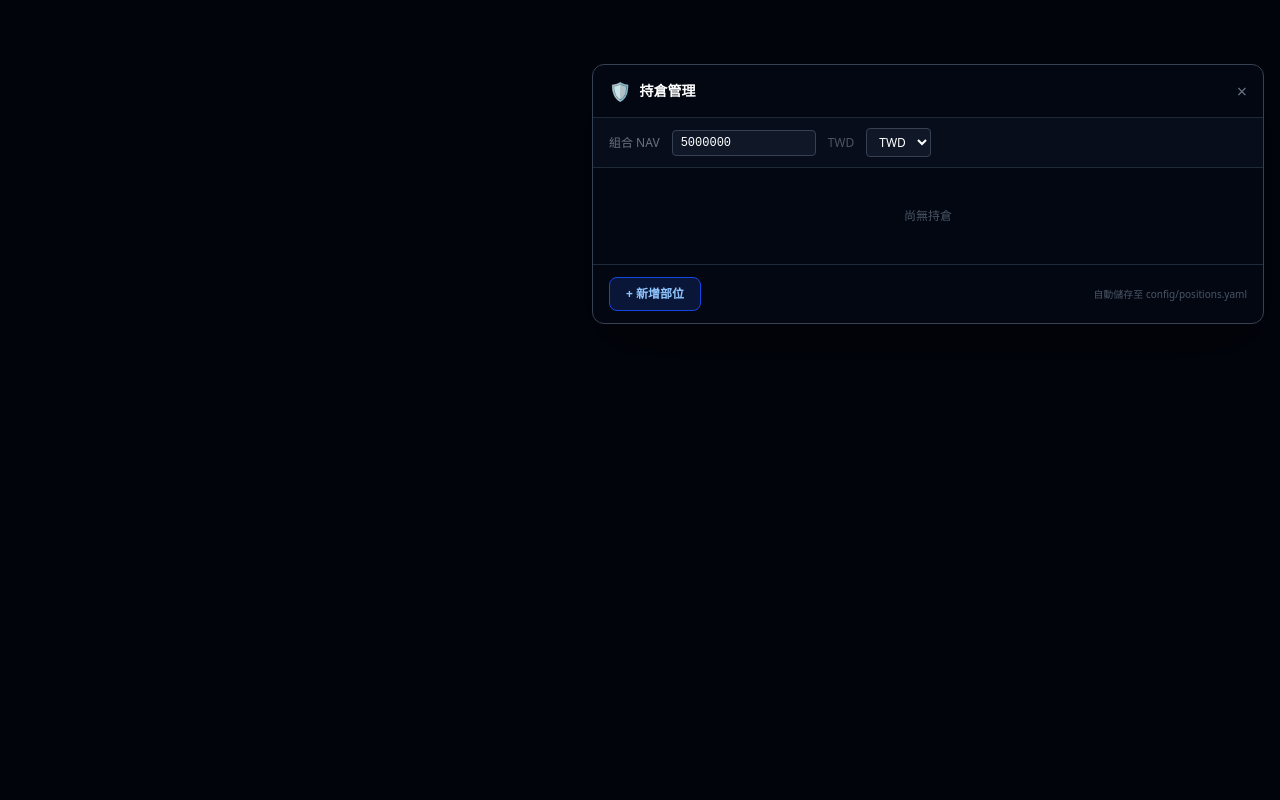
一般必填欄位 › 空白代碼擋下送出
Click the button "+ 新增部位": [655, 294] box [609,277,701,311]
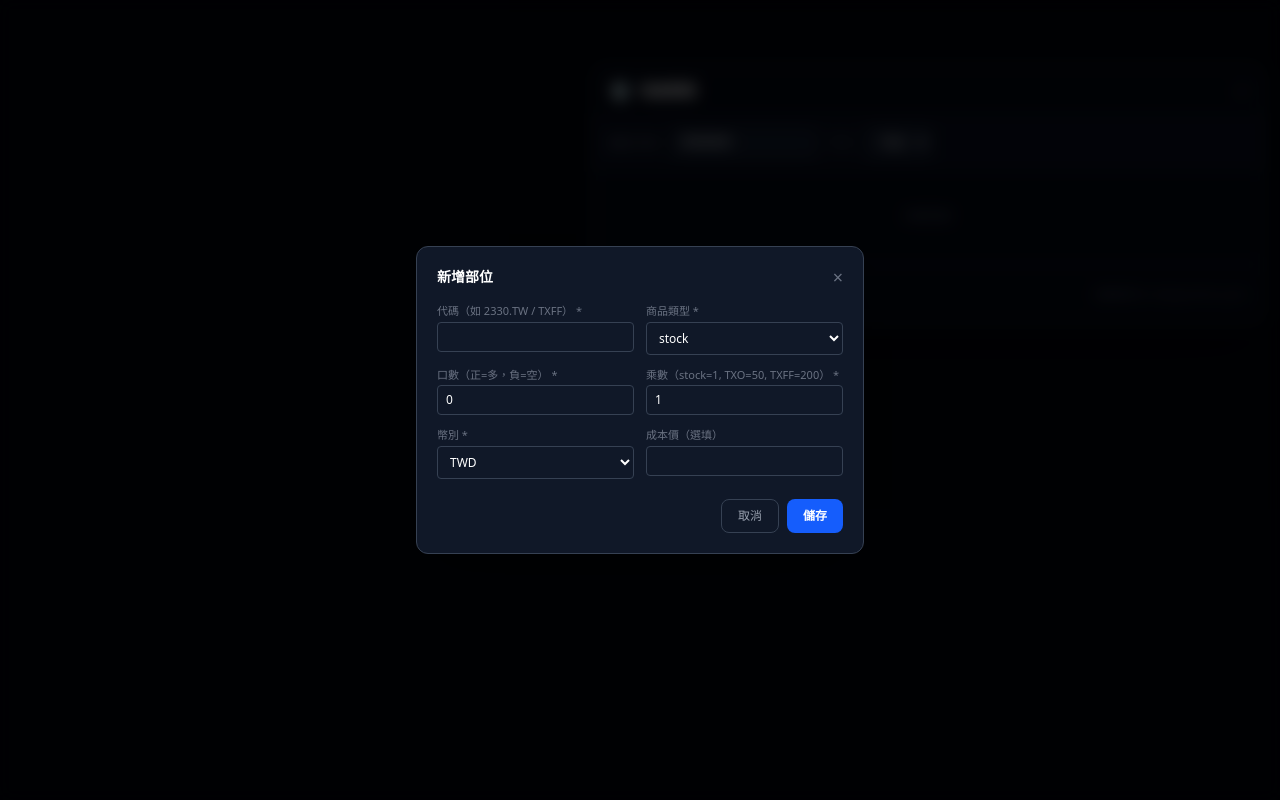
Click the button "儲存": [815, 516] box [787,499,843,533]
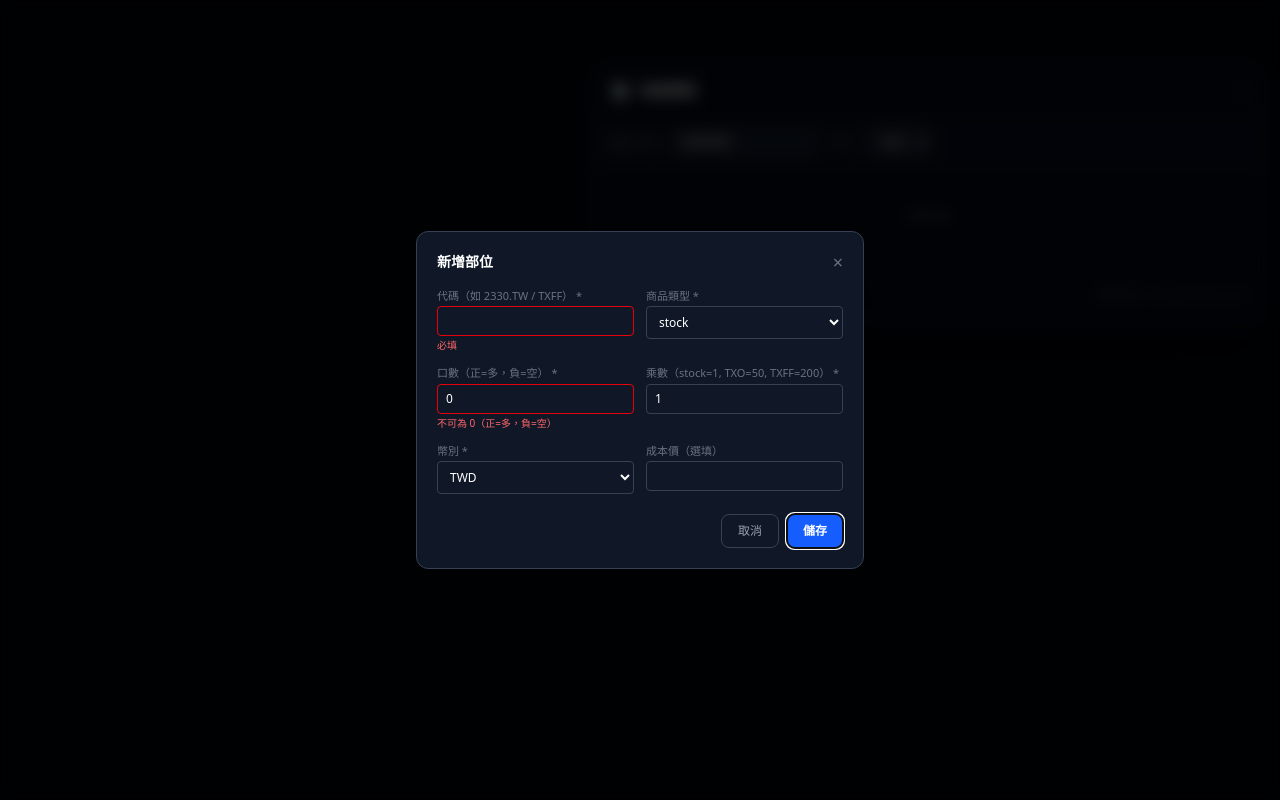
Expected: the message "必填" is shown, [437,338,457,352]
